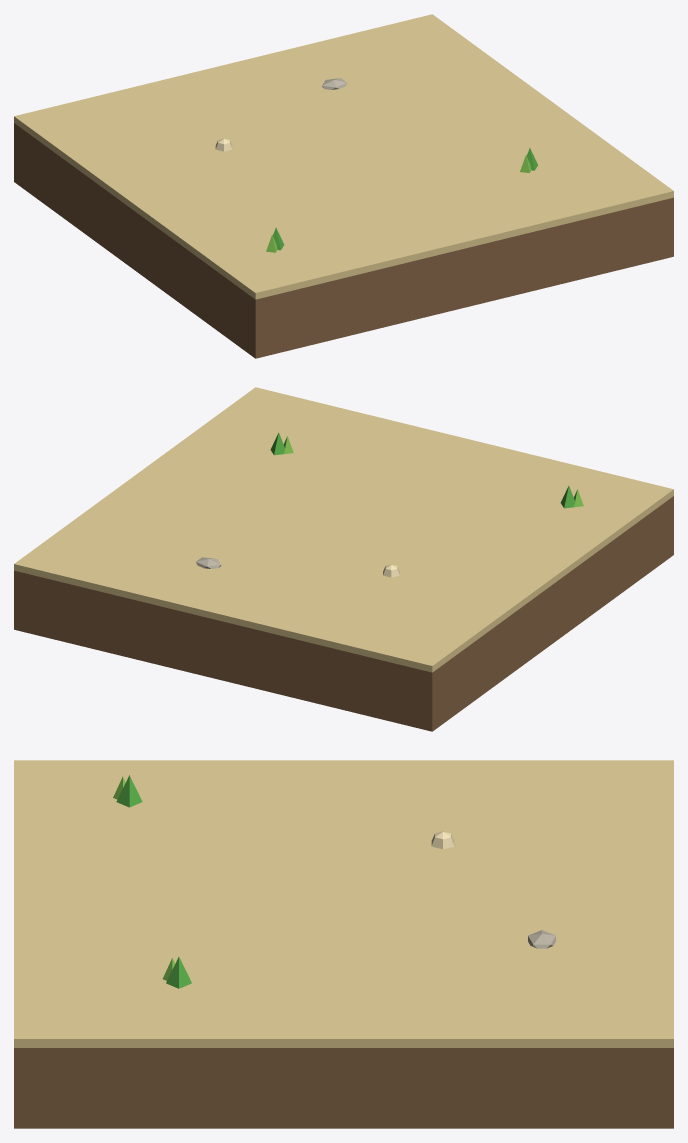
Rendered from areia.glb.
The picture shows the model from 3 angles, top to bottom: view 1: azimuth 30°, elevation 25°; view 2: azimuth 150°, elevation 25°; view 3: azimuth 270°, elevation 25°; orthographic projection. The views are drawn at different scales.
Visible parts, largest first — view 1: corpo; view 2: corpo; view 3: corpo.
Part boxes in pixels (bbox=[...]): corpo: bbox=[14, 14, 673, 358]; corpo: bbox=[14, 387, 673, 731]; corpo: bbox=[14, 760, 673, 1128].
Size of the model in its own units: 2 by 0.39 by 2.
